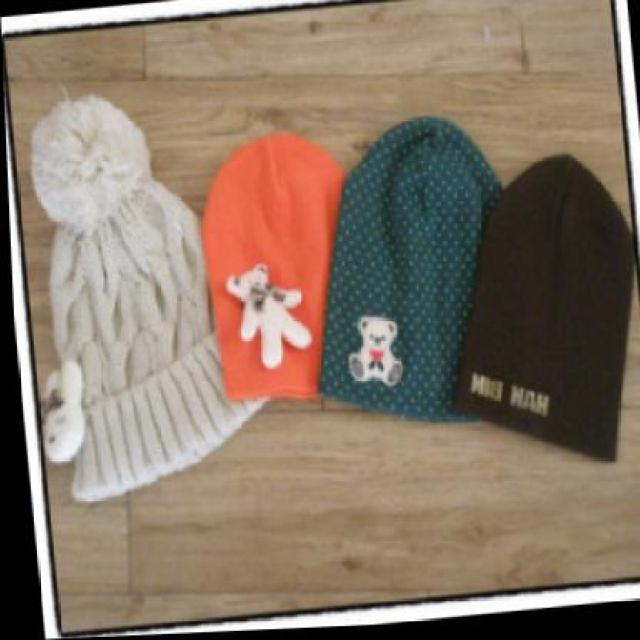hat: (9, 79, 283, 508), (290, 110, 527, 438), (421, 151, 640, 480), (188, 107, 380, 411)
